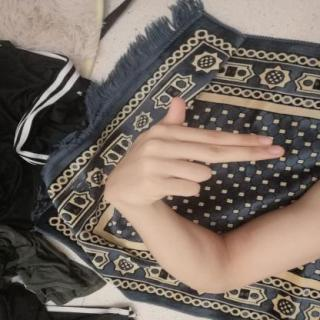GHAYN: (94, 90, 291, 212)
